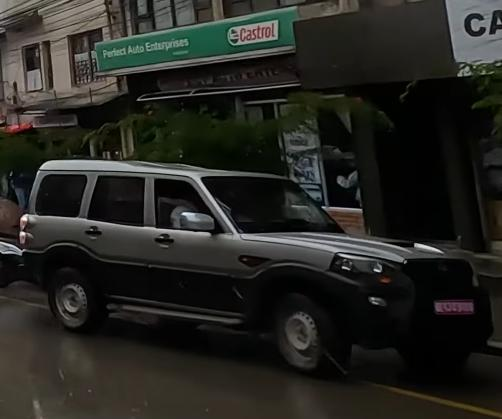SUV: (15, 151, 491, 385)
